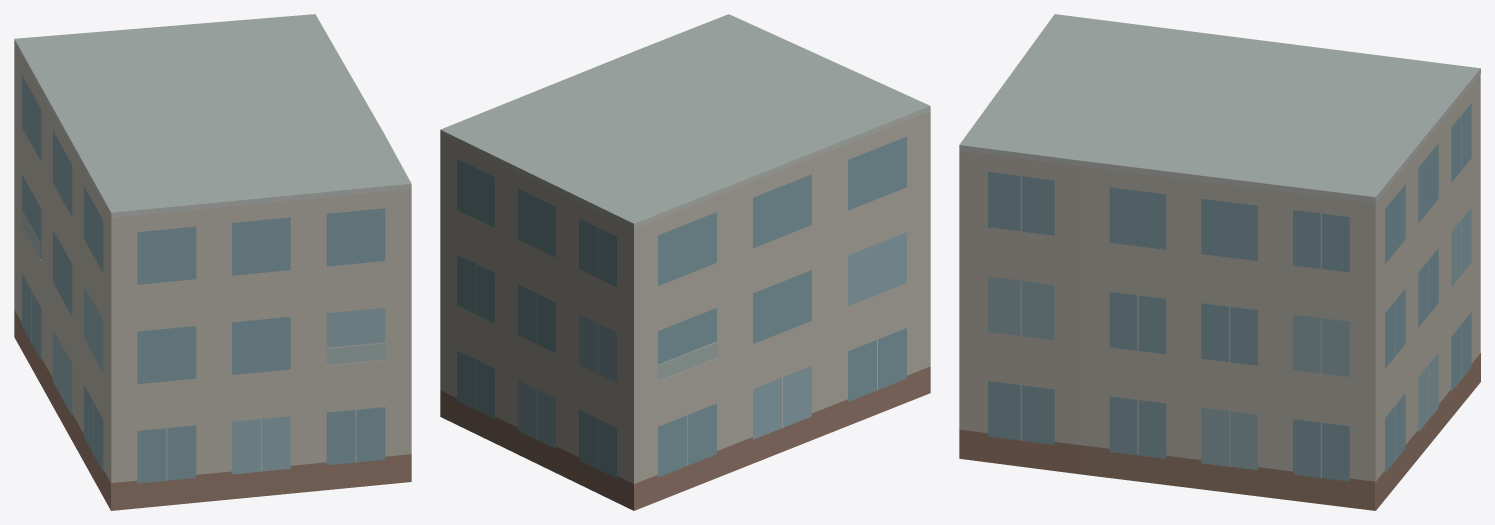
The model's file is survey-upis-32678759.glb.
The picture shows the model from 3 angles, left to right: view 1: azimuth 30°, elevation 25°; view 2: azimuth 150°, elevation 25°; view 3: azimuth 270°, elevation 25°; orthographic projection. The views are drawn at different scales.
Visible parts, largest first — view 1: survey-upis-32678759.tmp; view 2: survey-upis-32678759.tmp; view 3: survey-upis-32678759.tmp.
Part boxes in pixels (<box>): survey-upis-32678759.tmp: <box>14,14,411,510</box>; survey-upis-32678759.tmp: <box>440,14,930,510</box>; survey-upis-32678759.tmp: <box>959,14,1480,510</box>.
Size of the model in its own units: 17.04 by 13.6 by 20.5.
